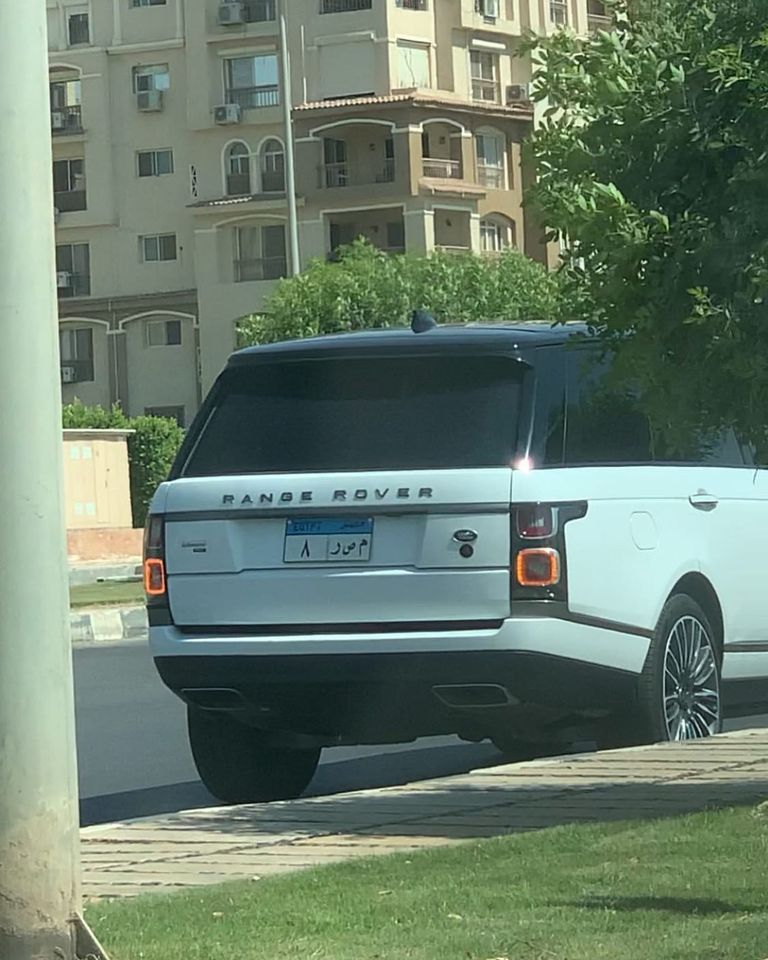carpl: (281, 525, 384, 562)
